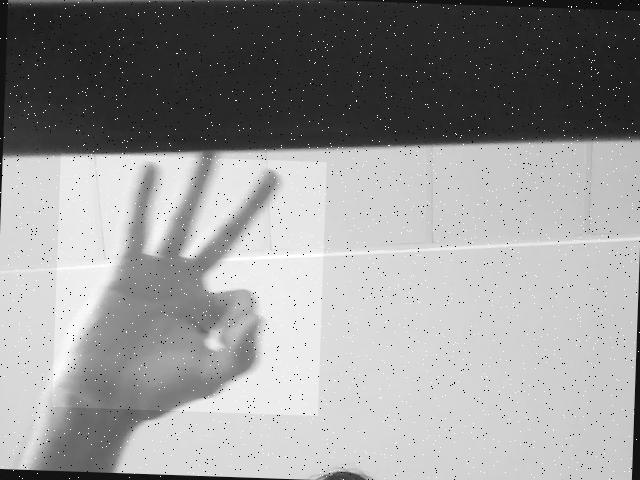OK: (52, 153, 326, 416)
